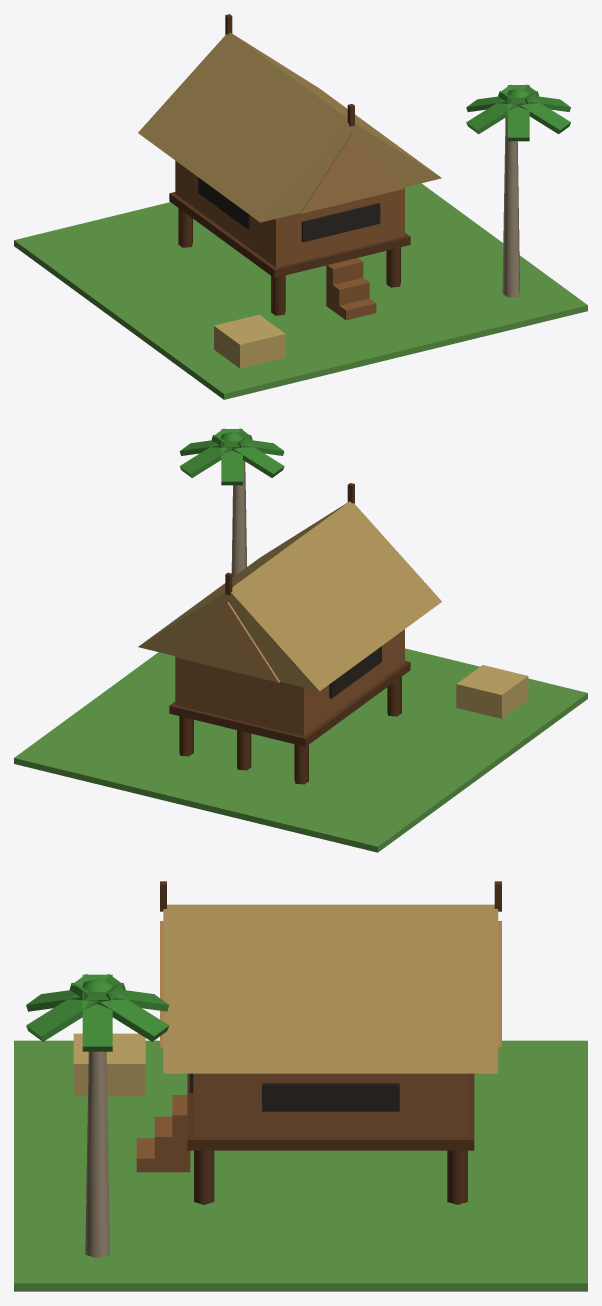
File: zone_R_d1_e1.glb
3 renders of one model, top to bottom at view 1: azimuth 30°, elevation 25°; view 2: azimuth 150°, elevation 25°; view 3: azimuth 270°, elevation 25°, orthographic. The views are drawn at different scales.
Parts seen in each view (by area): view 1: zone_R_d1_e1; view 2: zone_R_d1_e1; view 3: zone_R_d1_e1.
Part boxes in pixels (bbox=[...]): zone_R_d1_e1: bbox=[14, 14, 587, 399]; zone_R_d1_e1: bbox=[14, 428, 587, 852]; zone_R_d1_e1: bbox=[14, 881, 587, 1291].
Size of the model in its own units: 0.982 by 0.53 by 0.96.
